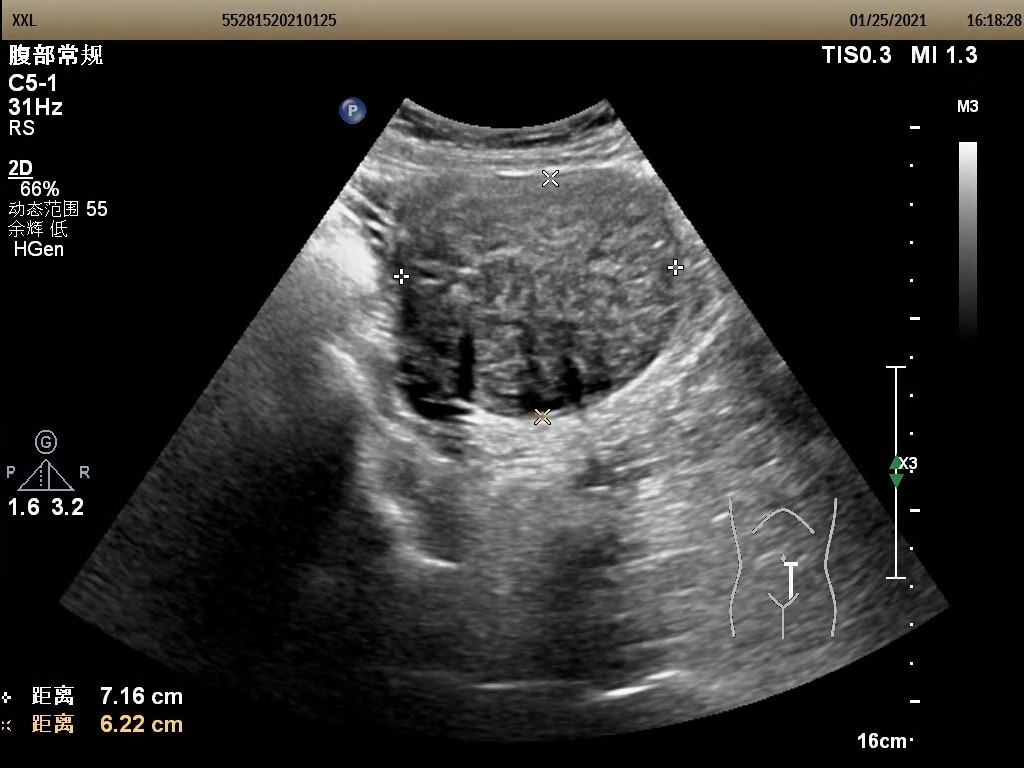肌瘤: (403, 176, 660, 407)
